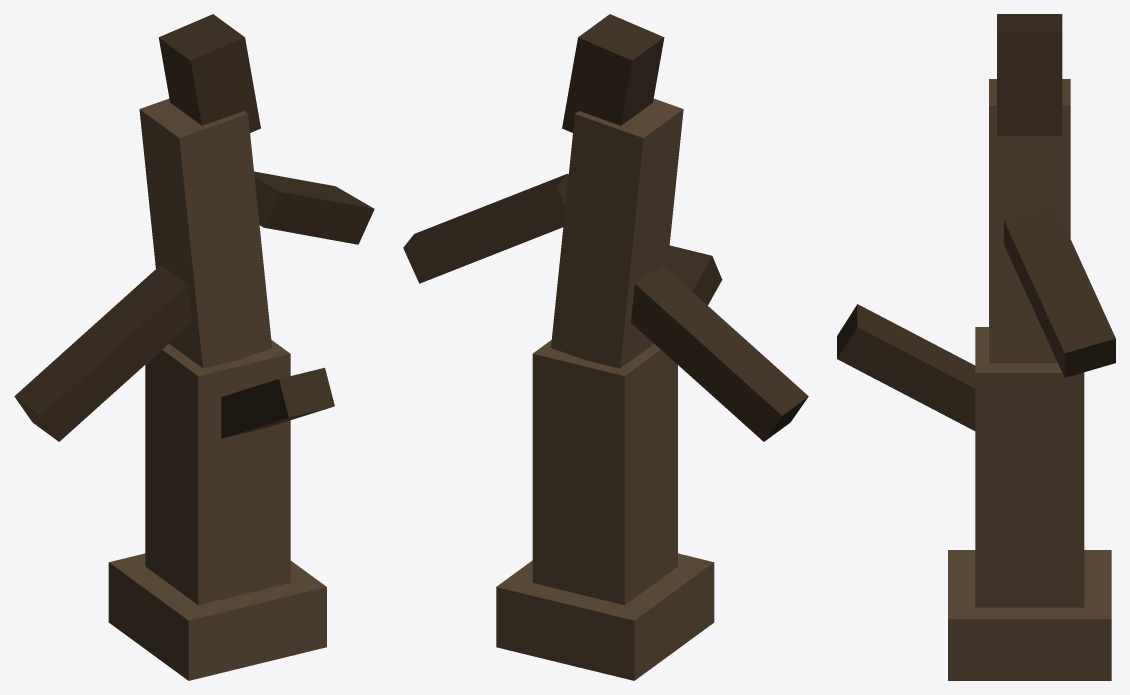
Rendered from tree_dead.gltf.
3 renders of one model, left to right at view 1: azimuth 30°, elevation 25°; view 2: azimuth 150°, elevation 25°; view 3: azimuth 270°, elevation 25°, orthographic. The views are drawn at different scales.
Parts seen in each view (by area): view 1: trunk_low, trunk_mid, root_flare, branch_l, top_stub, branch_r, branch_b; view 2: trunk_low, trunk_mid, root_flare, branch_l, branch_r, top_stub, branch_b; view 3: trunk_low, root_flare, trunk_mid, branch_r, branch_b, top_stub.
Boxes of the visible parts, x1,y1,x2,y2 form: trunk_low: [145, 340, 290, 605]; trunk_mid: [139, 98, 272, 368]; root_flare: [108, 553, 326, 680]; branch_l: [14, 265, 191, 441]; top_stub: [158, 14, 260, 132]; branch_r: [254, 171, 374, 244]; branch_b: [221, 367, 334, 438]; trunk_low: [532, 340, 677, 605]; trunk_mid: [551, 98, 683, 368]; root_flare: [496, 553, 714, 680]; branch_l: [631, 265, 808, 441]; branch_r: [403, 173, 568, 283]; top_stub: [562, 14, 664, 132]; branch_b: [667, 245, 722, 305]; trunk_low: [975, 327, 1084, 607]; root_flare: [948, 550, 1111, 680]; trunk_mid: [989, 79, 1070, 363]; branch_r: [1004, 205, 1115, 377]; branch_b: [837, 304, 975, 430]; top_stub: [997, 14, 1062, 136].
Size of the model in its own units: 0.9878 by 1.57 by 0.6396.
2 materials, 2 textured.
